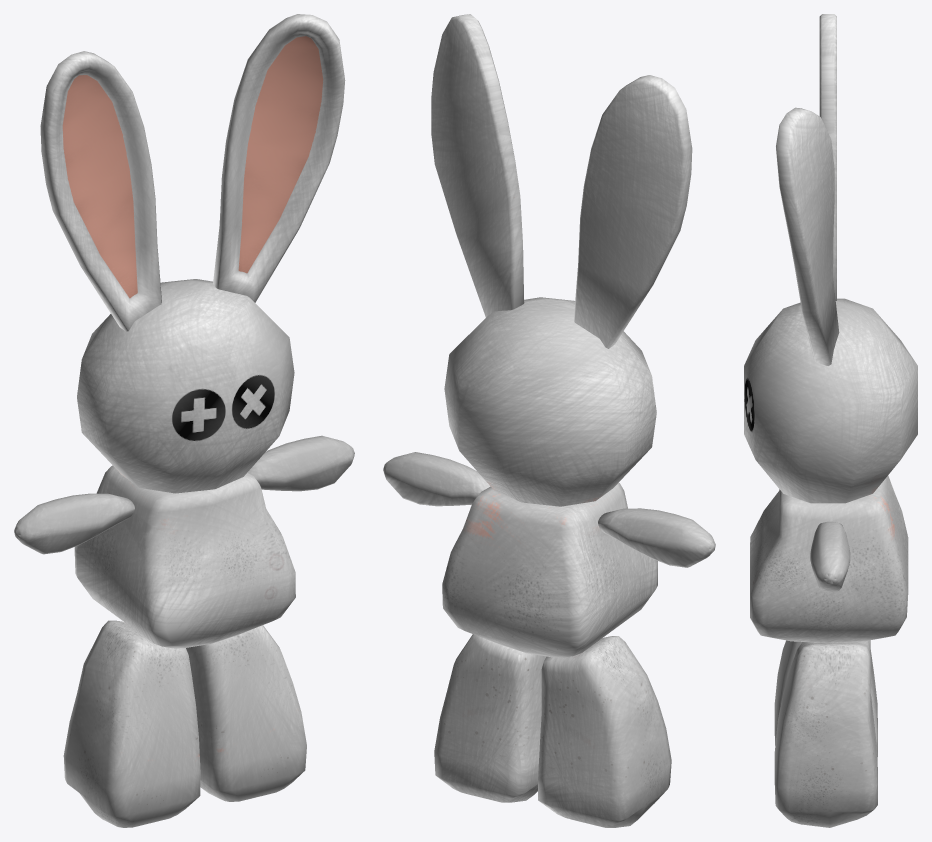
The model's file is Rabbit doll.fbx.
3 views of the same model, side by side, from view 1: azimuth 30°, elevation 25°; view 2: azimuth 150°, elevation 25°; view 3: azimuth 270°, elevation 25° (orthographic). The views are drawn at different scales.
Parts seen in each view (by area): view 1: Sphere001, Rabbit Body, Rabbit Right Ear, Rabbit Right Ear002, Rabbit Right Leg002, Rabbit Right Leg, Rabbit Left Arm004, Rabbit Left Arm001; view 2: Sphere001, Rabbit Body, Rabbit Right Ear002, Rabbit Right Leg002, Rabbit Right Ear, Rabbit Right Leg, Rabbit Left Arm004, Rabbit Left Arm001; view 3: Sphere001, Rabbit Body, Rabbit Right Leg, Rabbit Right Ear, Rabbit Right Ear002, Rabbit Left Arm001, Rabbit Right Leg002.
Boxes of the visible parts, bbox=[...] form: Sphere001: bbox=[77, 279, 294, 493]; Rabbit Body: bbox=[74, 465, 295, 648]; Rabbit Right Ear: bbox=[213, 14, 345, 302]; Rabbit Right Ear002: bbox=[40, 51, 161, 331]; Rabbit Right Leg002: bbox=[63, 620, 200, 827]; Rabbit Right Leg: bbox=[186, 625, 306, 801]; Rabbit Left Arm004: bbox=[14, 493, 134, 554]; Rabbit Left Arm001: bbox=[247, 435, 354, 491]; Sphere001: bbox=[444, 297, 656, 506]; Rabbit Body: bbox=[442, 482, 657, 657]; Rabbit Right Ear002: bbox=[573, 75, 692, 348]; Rabbit Right Leg002: bbox=[538, 636, 671, 827]; Rabbit Right Ear: bbox=[431, 14, 524, 317]; Rabbit Right Leg: bbox=[434, 634, 546, 802]; Rabbit Left Arm004: bbox=[598, 508, 715, 567]; Rabbit Left Arm001: bbox=[383, 452, 490, 506]; Sphere001: bbox=[744, 298, 917, 503]; Rabbit Body: bbox=[750, 475, 908, 642]; Rabbit Right Leg: bbox=[774, 641, 877, 827]; Rabbit Right Ear: bbox=[776, 107, 839, 365]; Rabbit Right Ear002: bbox=[819, 14, 836, 300]; Rabbit Left Arm001: bbox=[810, 521, 850, 591]; Rabbit Right Leg002: bbox=[774, 640, 877, 756].
Size of the model in its own units: 41.39 by 19.54 by 90.51.
